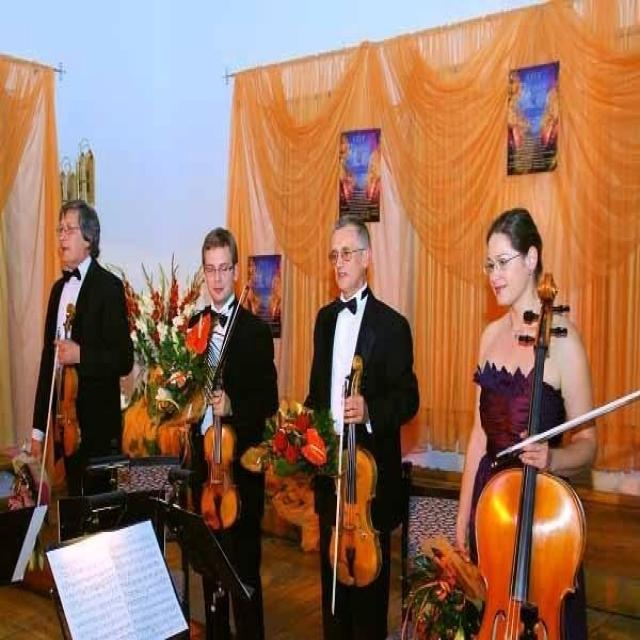cello: (467, 268, 589, 638)
violin: (328, 354, 377, 589), (202, 351, 244, 534), (52, 300, 84, 459)
